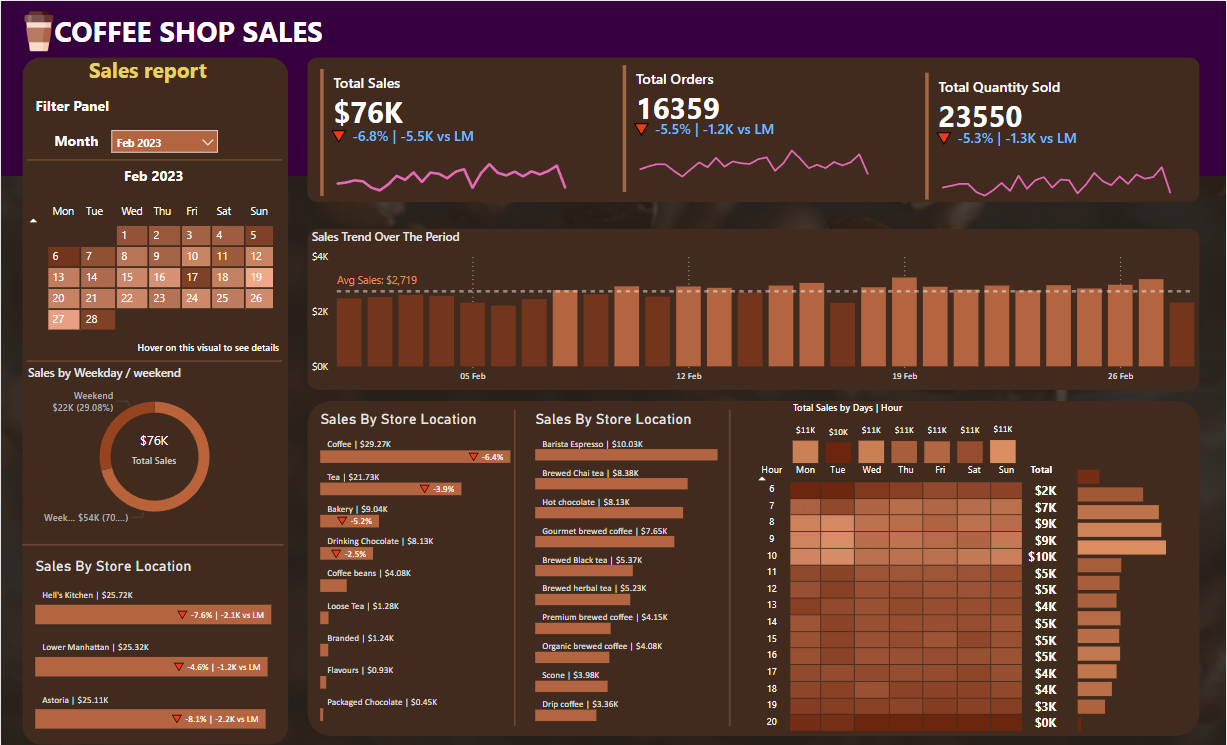

Layout of this report page (visuals, bound fields, positions):
{"tool":"powerbi","page":{"name":"Page 1","canvas":[1400,850],"ordinal":0},"visuals":[{"type":"shape","box":[0,0,1400,200],"z":0},{"type":"shape","box":[24.3,64.3,304.3,785.7],"z":1000},{"type":"shape","box":[350,64.3,1020,165.7],"z":2000},{"type":"textbox","box":[55.7,7.1,327.1,57.1],"z":3000},{"type":"cardVisual","fields":{"Data":["Transactions.Total Orders"]},"box":[705.4,68.6,300,155.7],"z":4000,"group":"g2"},{"type":"cardVisual","fields":{"Data":["Transactions.Total Sales"]},"box":[360,73.1,300,155.7],"z":4000,"group":"g1"},{"type":"cardVisual","fields":{"Data":["Transactions.Total Quantity Sold"]},"box":[1050.8,77,300,155.7],"z":4000,"group":"g3"},{"type":"slicer","fields":{"Values":["Date Table.Month Year"]},"box":[121.4,142.9,131.4,34.3],"z":4000},{"type":"group","id":"g1","title":"Group 1","box":[360,73.1,300,155.7],"z":5000},{"type":"group","id":"g2","title":"Group 1","box":[705.4,68.6,300,155.7],"z":6000},{"type":"lineChart","fields":{"Category":["Date Table.Date Hierarchy.Date"],"Y":["Transactions.Total Orders"]},"box":[715.3,134.6,290,85.7],"z":6000,"group":"g2"},{"type":"lineChart","fields":{"Category":["Date Table.Date Hierarchy.Date"],"Y":["Transactions.Total Sales"]},"box":[370,143.1,290,85.7],"z":6000,"group":"g1"},{"type":"lineChart","fields":{"Category":["Date Table.Date Hierarchy.Date"],"Y":["Transactions.Total Quantity Sold"]},"box":[1061.3,144.8,290,85.7],"z":6000,"group":"g3"},{"type":"group","id":"g3","title":"Group 1","box":[1050.8,77,300.5,155.7],"z":7000},{"type":"pivotTable","fields":{"Columns":["Date Table.Day Name"],"Rows":["Date Table.Week Number"],"Values":["Min(Date Table.Day Number)"]},"box":[22.9,224.3,305.7,190],"z":8000},{"type":"cardVisual","fields":{"Data":["Min(Date Table.Month Year)"]},"box":[97.5,162.5,155,62.5],"z":9000},{"type":"cardVisual","fields":{"Data":["Transactions.Foot Note"]},"box":[42.9,364.3,292.9,47.1],"z":10000},{"type":"shape","box":[30,396.7,291.1,28.9],"z":11000},{"type":"shape","box":[30,166.7,291.1,28.9],"z":12000},{"type":"donutChart","title":"Sales by Weekday / weekend","fields":{"Category":["Date Table.Weekday / weekend"],"Y":["Transactions.Total Sales"]},"box":[25.7,415.7,300,192.9],"z":13000},{"type":"card","fields":{"Values":["Transactions.Total Sales"]},"box":[120,477.1,110,68.6],"z":14000},{"type":"shape","box":[24.3,607.1,298.6,28.6],"z":15000},{"type":"clusteredBarChart","title":"Sales By Store Location","fields":{"Y":["Transactions.Placeholder","Transactions.Total Sales"],"Category":["Transactions.store_location"]},"box":[34.3,635.7,305.7,204.3],"z":16000},{"type":"shape","box":[350,457.1,1020,382.9],"z":17000},{"type":"shape","box":[350,260,1020,185],"z":18000},{"type":"columnChart","title":"Sales Trend Over The Period","fields":{"Category":["Transactions.transaction_date"],"Y":["Transactions.Total Sales"]},"box":[350,260,1020,185.7],"z":19000},{"type":"clusteredBarChart","title":"Sales By Store Location","fields":{"Y":["Transactions.Placeholder","Transactions.Total Sales"],"Category":["Transactions.product_category"]},"box":[360,467.1,250,361.4],"z":20000},{"type":"shape","box":[564.3,467.1,45.7,361.4],"z":21000},{"type":"clusteredBarChart","title":"Sales By Store Location","fields":{"Y":["Transactions.Placeholder","Transactions.Total Sales"],"Category":["Transactions.product_type"]},"box":[605.7,467.1,250,361.4],"z":22000},{"type":"shape","box":[810,467.1,45.7,361.4],"z":23000},{"type":"pivotTable","fields":{"Rows":["Transactions.Hour"],"Columns":["Date Table.Day Name"],"Values":["Transactions.Total Sales"]},"box":[855.7,522.9,370,317.1],"z":24000},{"type":"barChart","fields":{"Category":["Transactions.Hour"],"Y":["Transactions.Total Sales"]},"box":[1225.7,522.9,114.3,317.1],"z":25000},{"type":"columnChart","title":"Total Sales by Days | Hour","fields":{"Y":["Transactions.Total Sales"],"Category":["Date Table.Day Name"]},"box":[900,457.1,265.7,77.1],"z":26000},{"type":"textbox","box":[55.7,142.9,64.3,34.3],"z":27000},{"type":"textbox","box":[88.6,57.1,164.3,42.9],"z":28000},{"type":"textbox","box":[30,102.9,125.7,31.4],"z":29000},{"type":"image","box":[15.7,1.4,55.7,67.1],"z":30000}]}

Visuals, with their boxes in screenshot pixels (x1, y1, x2, y2), scaled from the page's 1400x850 canvas onto the 1227x745 screenshot:
shape: {"x1": 0, "y1": 0, "x2": 1226, "y2": 175}
shape: {"x1": 21, "y1": 56, "x2": 288, "y2": 744}
shape: {"x1": 307, "y1": 56, "x2": 1201, "y2": 202}
textbox: {"x1": 49, "y1": 6, "x2": 335, "y2": 56}
cardVisual - Transactions.Total Orders: {"x1": 618, "y1": 60, "x2": 881, "y2": 197}
cardVisual - Transactions.Total Sales: {"x1": 316, "y1": 64, "x2": 578, "y2": 201}
cardVisual - Transactions.Total Quantity Sold: {"x1": 921, "y1": 67, "x2": 1184, "y2": 204}
slicer - Date Table.Month Year: {"x1": 106, "y1": 125, "x2": 222, "y2": 155}
"Group 1" group: {"x1": 316, "y1": 64, "x2": 578, "y2": 201}
"Group 1" group: {"x1": 618, "y1": 60, "x2": 881, "y2": 197}
lineChart - Date Table.Date Hierarchy.Date x Transactions.Total Orders: {"x1": 627, "y1": 118, "x2": 881, "y2": 193}
lineChart - Date Table.Date Hierarchy.Date x Transactions.Total Sales: {"x1": 324, "y1": 125, "x2": 578, "y2": 201}
lineChart - Date Table.Date Hierarchy.Date x Transactions.Total Quantity Sold: {"x1": 930, "y1": 127, "x2": 1184, "y2": 202}
"Group 1" group: {"x1": 921, "y1": 67, "x2": 1184, "y2": 204}
pivotTable - Date Table.Day Name x Date Table.Week Number: {"x1": 20, "y1": 197, "x2": 288, "y2": 363}
cardVisual - Min(Date Table.Month Year): {"x1": 85, "y1": 142, "x2": 221, "y2": 197}
cardVisual - Transactions.Foot Note: {"x1": 38, "y1": 319, "x2": 294, "y2": 361}
shape: {"x1": 26, "y1": 348, "x2": 281, "y2": 373}
shape: {"x1": 26, "y1": 146, "x2": 281, "y2": 171}
"Sales by Weekday / weekend" donutChart: {"x1": 23, "y1": 364, "x2": 285, "y2": 533}
card - Transactions.Total Sales: {"x1": 105, "y1": 418, "x2": 202, "y2": 478}
shape: {"x1": 21, "y1": 532, "x2": 283, "y2": 557}
"Sales By Store Location" clusteredBarChart: {"x1": 30, "y1": 557, "x2": 298, "y2": 736}
shape: {"x1": 307, "y1": 401, "x2": 1201, "y2": 736}
shape: {"x1": 307, "y1": 228, "x2": 1201, "y2": 390}
"Sales Trend Over The Period" columnChart: {"x1": 307, "y1": 228, "x2": 1201, "y2": 391}
"Sales By Store Location" clusteredBarChart: {"x1": 316, "y1": 409, "x2": 535, "y2": 726}
shape: {"x1": 495, "y1": 409, "x2": 535, "y2": 726}
"Sales By Store Location" clusteredBarChart: {"x1": 531, "y1": 409, "x2": 750, "y2": 726}
shape: {"x1": 710, "y1": 409, "x2": 750, "y2": 726}
pivotTable - Transactions.Hour x Date Table.Day Name: {"x1": 750, "y1": 458, "x2": 1074, "y2": 736}
barChart - Transactions.Hour x Transactions.Total Sales: {"x1": 1074, "y1": 458, "x2": 1174, "y2": 736}
"Total Sales by Days | Hour" columnChart: {"x1": 789, "y1": 401, "x2": 1022, "y2": 468}
textbox: {"x1": 49, "y1": 125, "x2": 105, "y2": 155}
textbox: {"x1": 78, "y1": 50, "x2": 222, "y2": 88}
textbox: {"x1": 26, "y1": 90, "x2": 136, "y2": 118}
image: {"x1": 14, "y1": 1, "x2": 63, "y2": 60}
